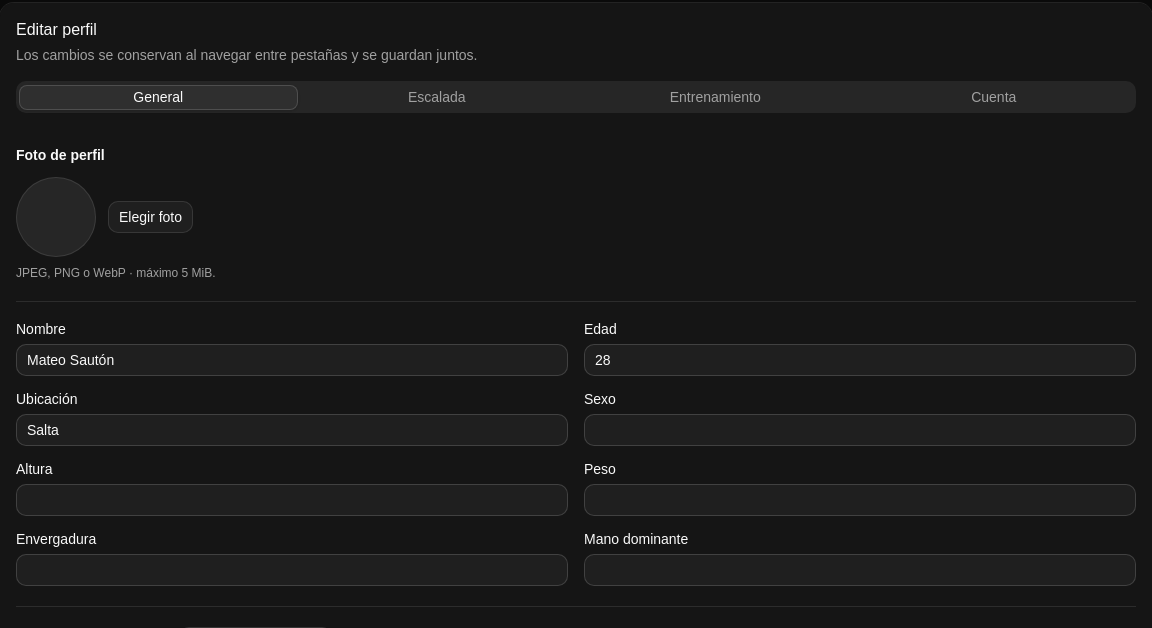
Scenario: UserProfile › keeps one draft while changing tabs and submits normalized values
Later steps or results of the test are not shown.
(page scrolled)
Replace the text in the field labelled "Nombre" with "Mateo Nuevo" at (292, 360), box [16, 344, 568, 376]
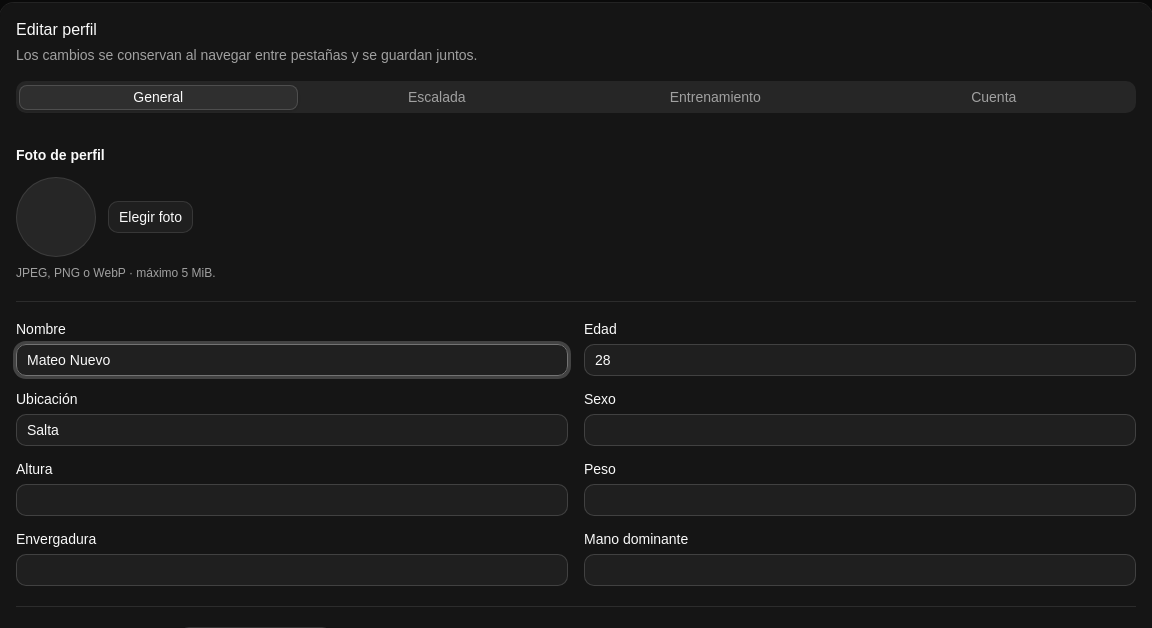
Click the tab "Escalada" at (437, 97), box [298, 84, 576, 110]
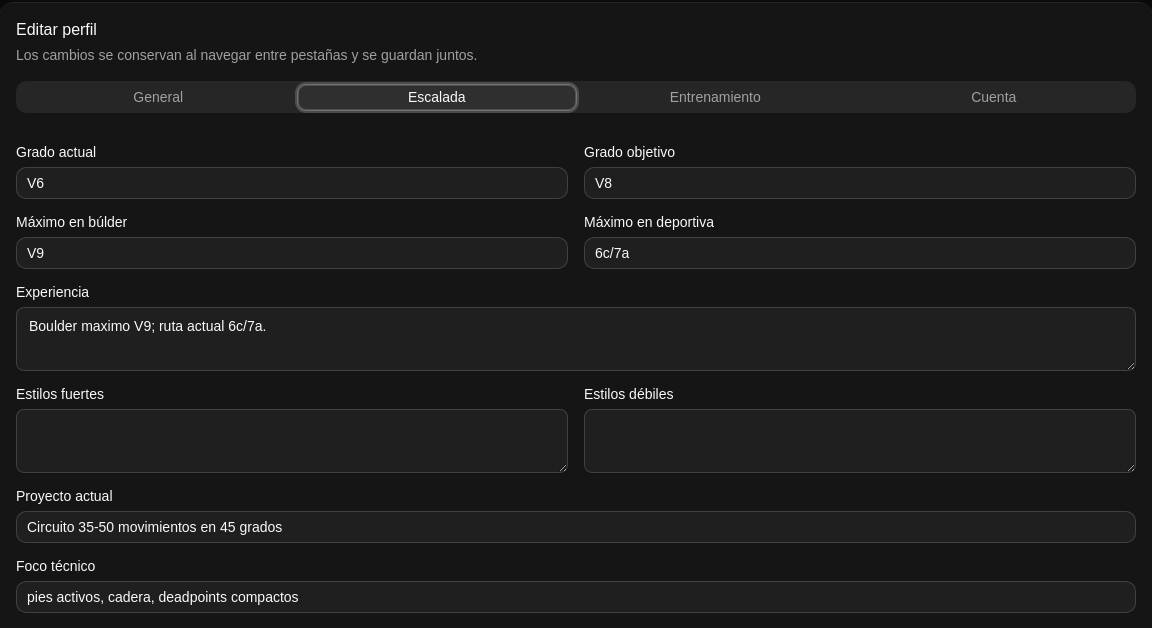
Replace the text in the field labelled "Proyecto actual" with "Moonboard" at (576, 527), box [16, 511, 1136, 543]
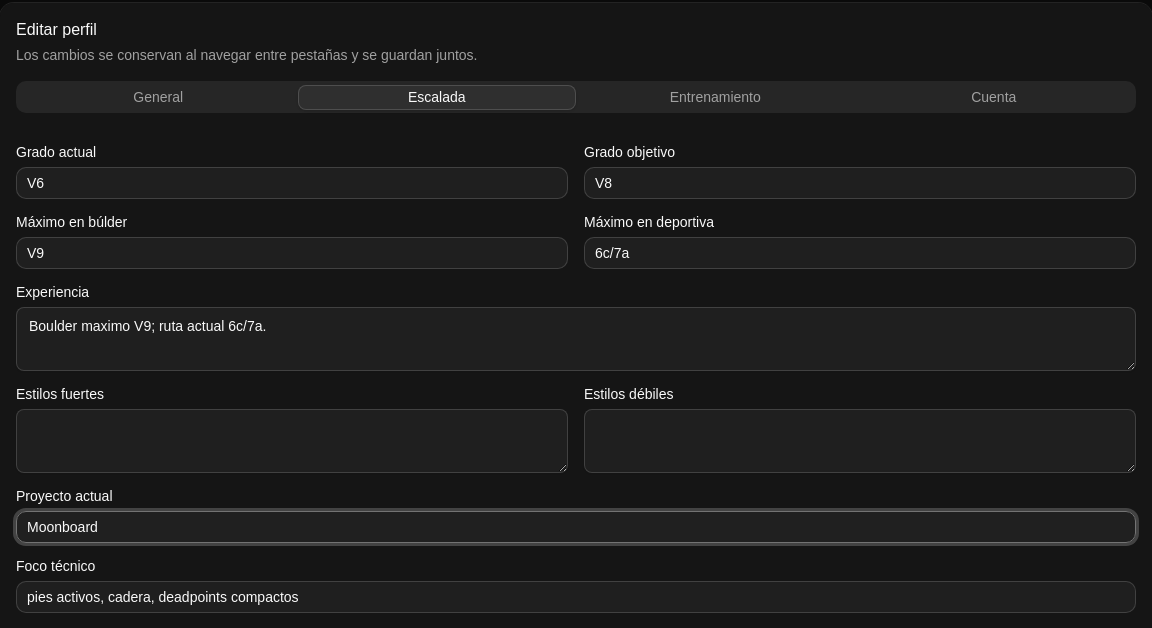
Click the tab "General" at (158, 97), box [19, 84, 298, 110]
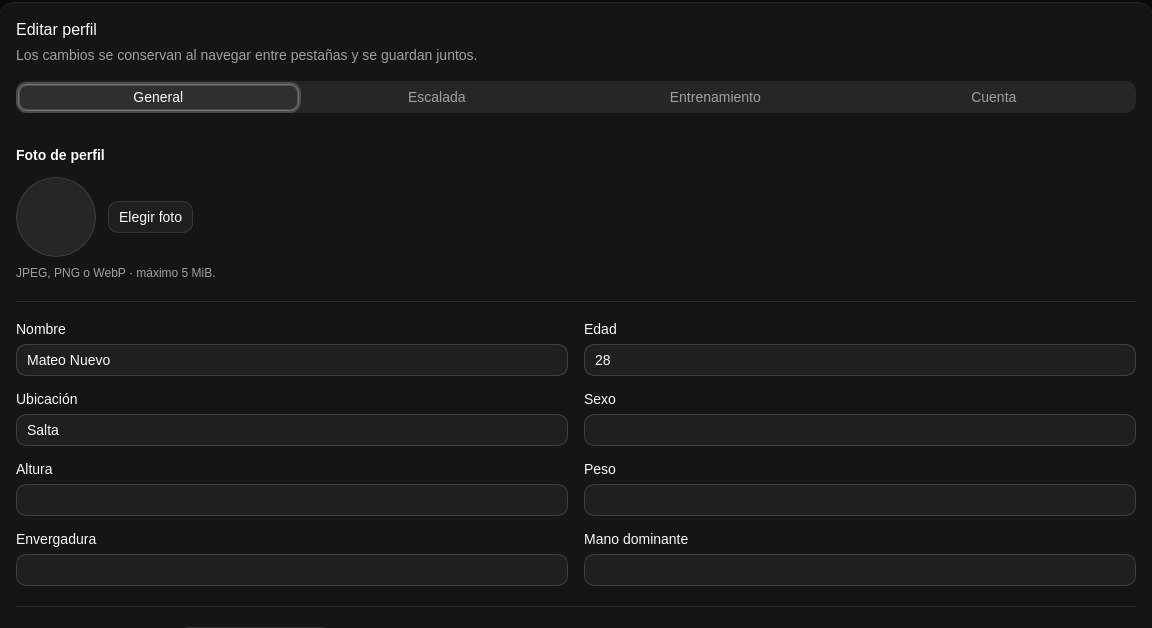
Expected: the field labelled "Nombre" holds "Mateo Nuevo", [16, 344, 568, 376]
